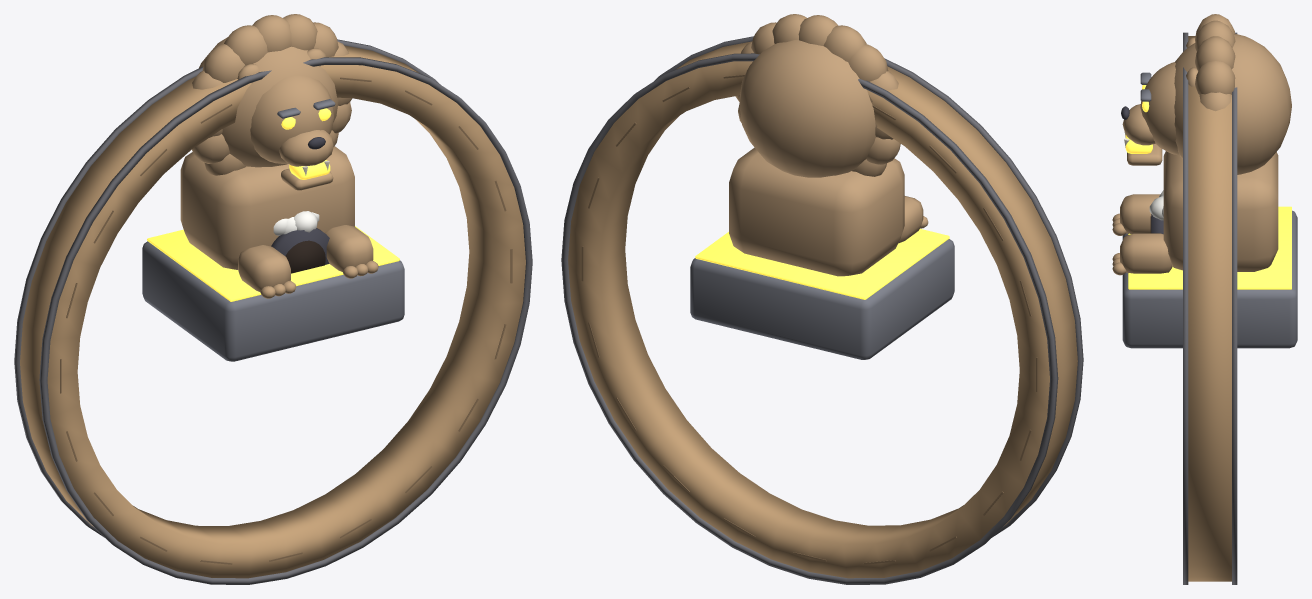
The model's file is hazards.glb.
3 views of the same model, side by side, from view 1: azimuth 30°, elevation 25°; view 2: azimuth 150°, elevation 25°; view 3: azimuth 270°, elevation 25° (orthographic). The views are drawn at different scales.
Visible parts, largest first — view 1: HZ_PipeRing, HZ_Statue, HZ_Cannon, HZ_Stamper; view 2: HZ_PipeRing, HZ_Statue; view 3: HZ_Statue, HZ_PipeRing, HZ_Stamper.
Boxes of the visible parts, x1,y1,x2,y2 form: HZ_PipeRing: [14, 39, 532, 584]; HZ_Statue: [142, 14, 404, 361]; HZ_Cannon: [271, 228, 329, 273]; HZ_Stamper: [273, 211, 319, 235]; HZ_PipeRing: [561, 36, 1083, 584]; HZ_Statue: [690, 14, 954, 359]; HZ_Statue: [1112, 14, 1297, 348]; HZ_PipeRing: [1183, 32, 1237, 584]; HZ_Stamper: [1149, 190, 1163, 220].
Bounding box in the file's own units: 20.24 × 21.67 × 6.78.
